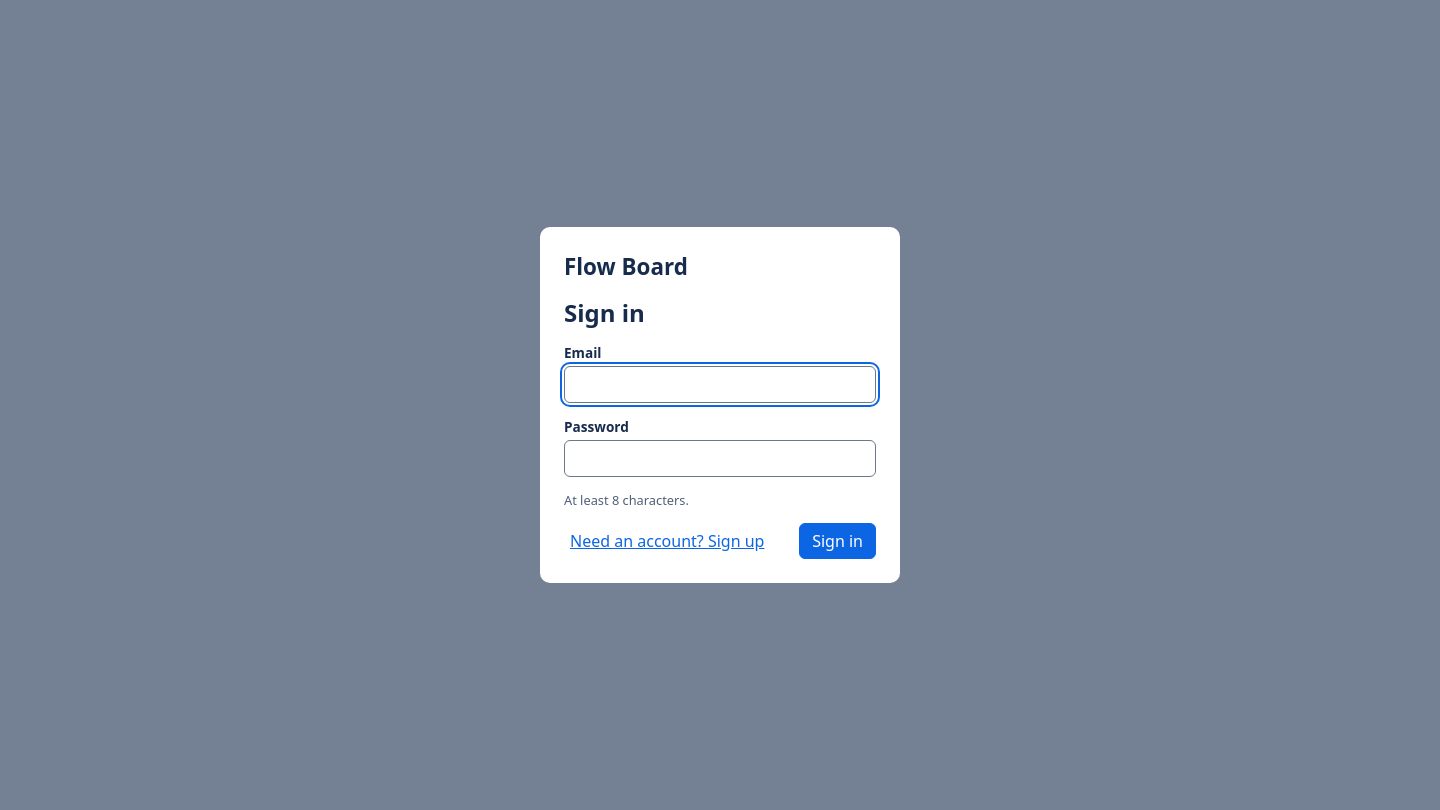
Test: AuthGate › REGRESSION: failed sign-up is generic too
Click the button "Need an account? Sign up" at (667, 541), box [564,528,770,554]
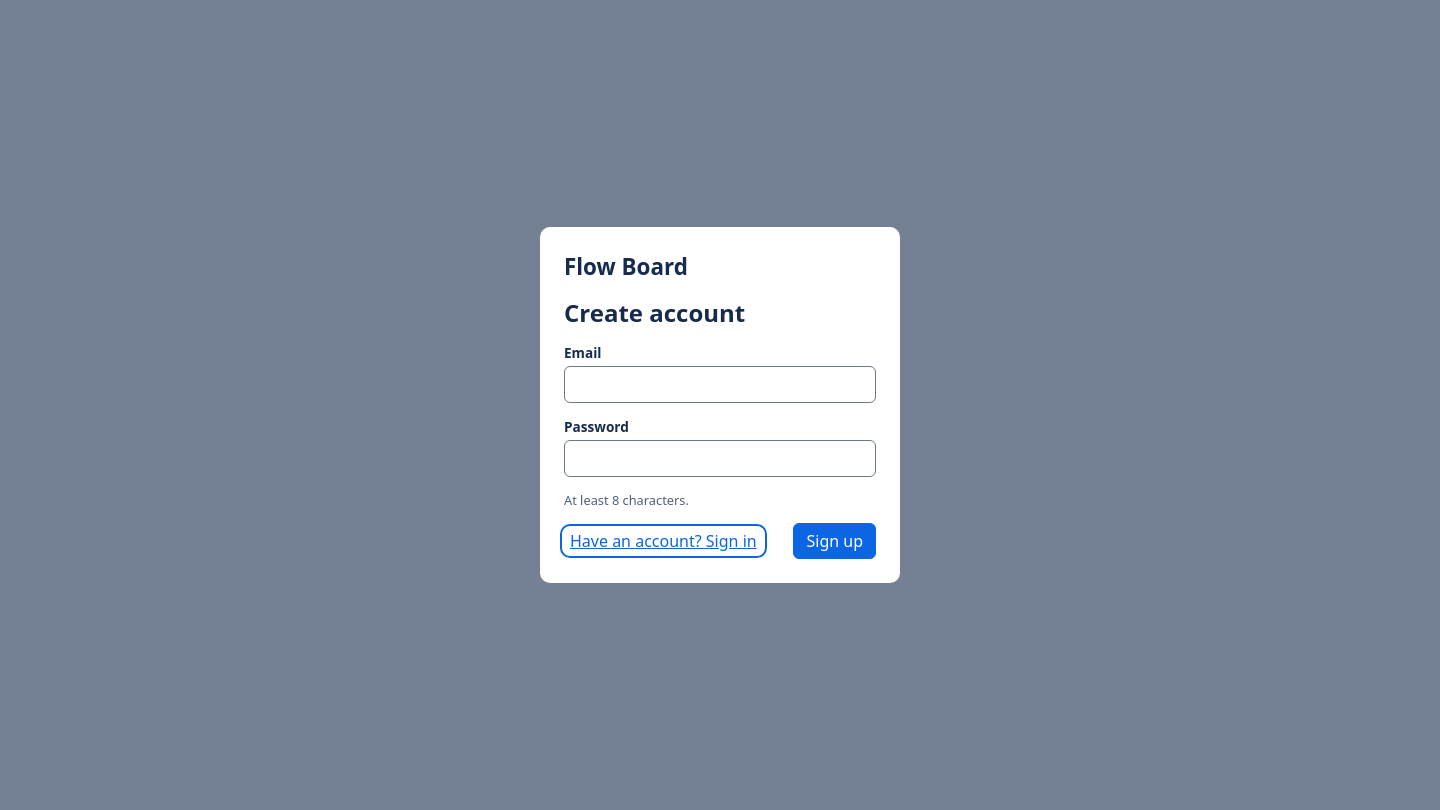
Type " a@b.co " into the field labelled "Email" at (720, 384), box [564,366,876,403]
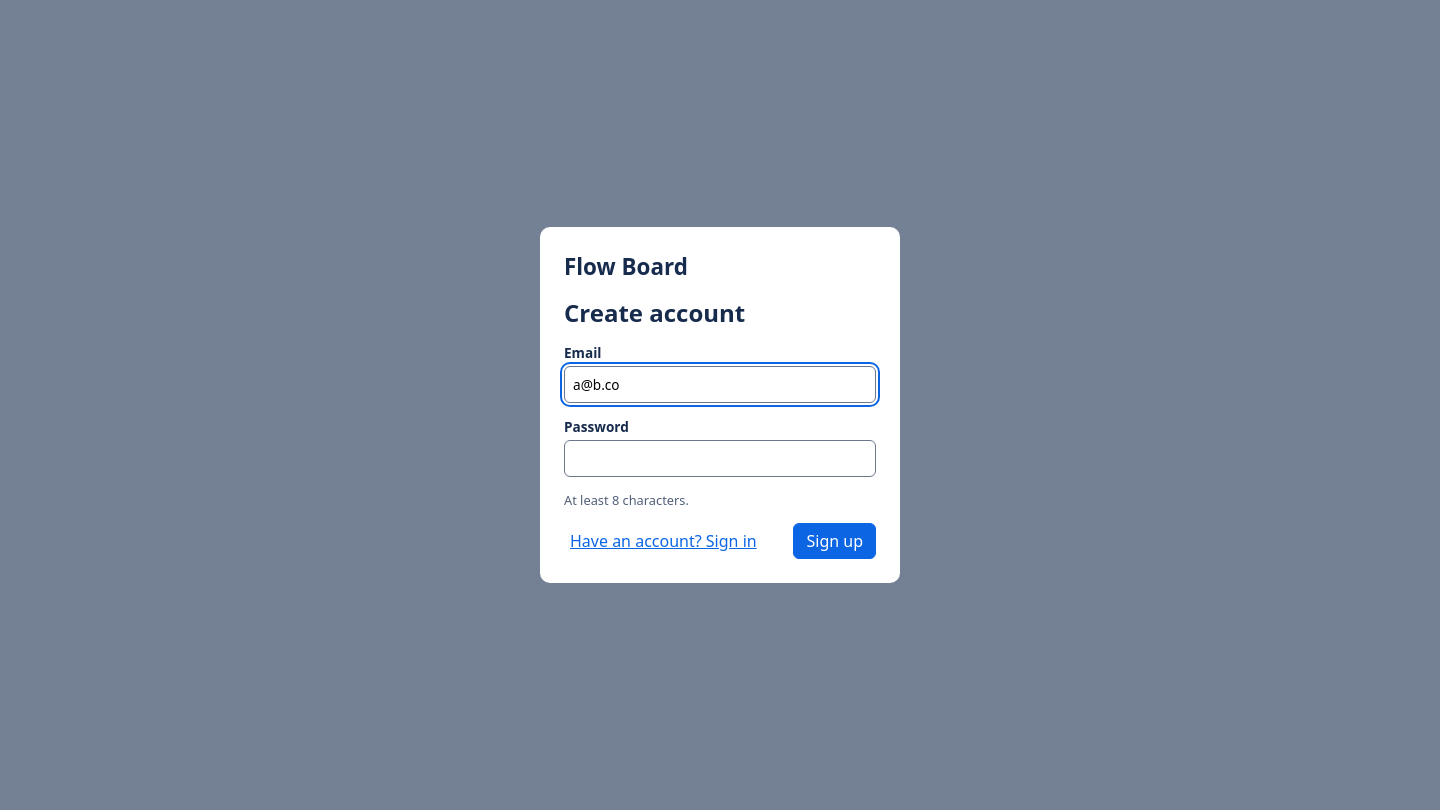
Type "password1" into the password field labelled "Password" at (720, 458), box [564,440,876,477]
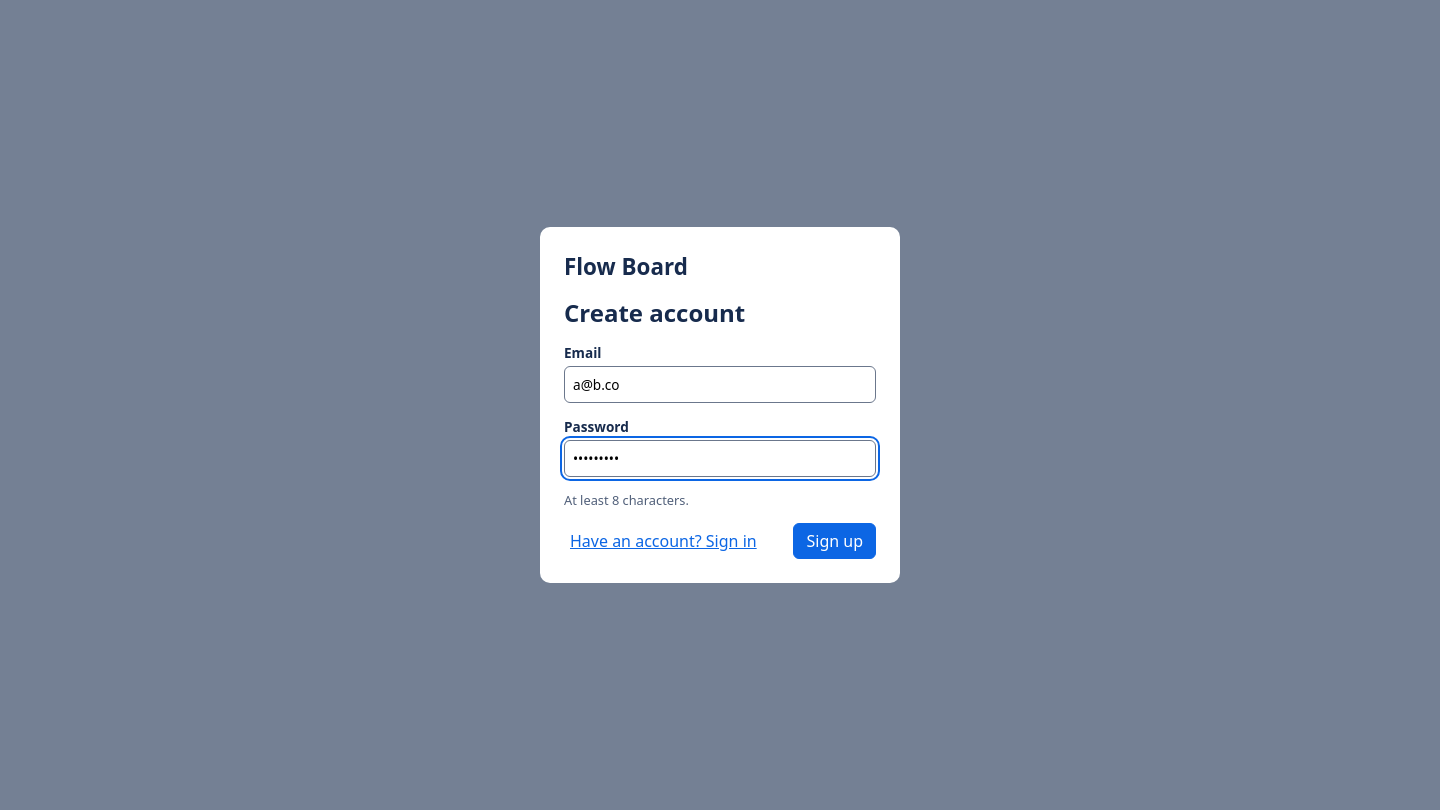
Click the button "Sign up" at (835, 541), box [794,523,876,559]
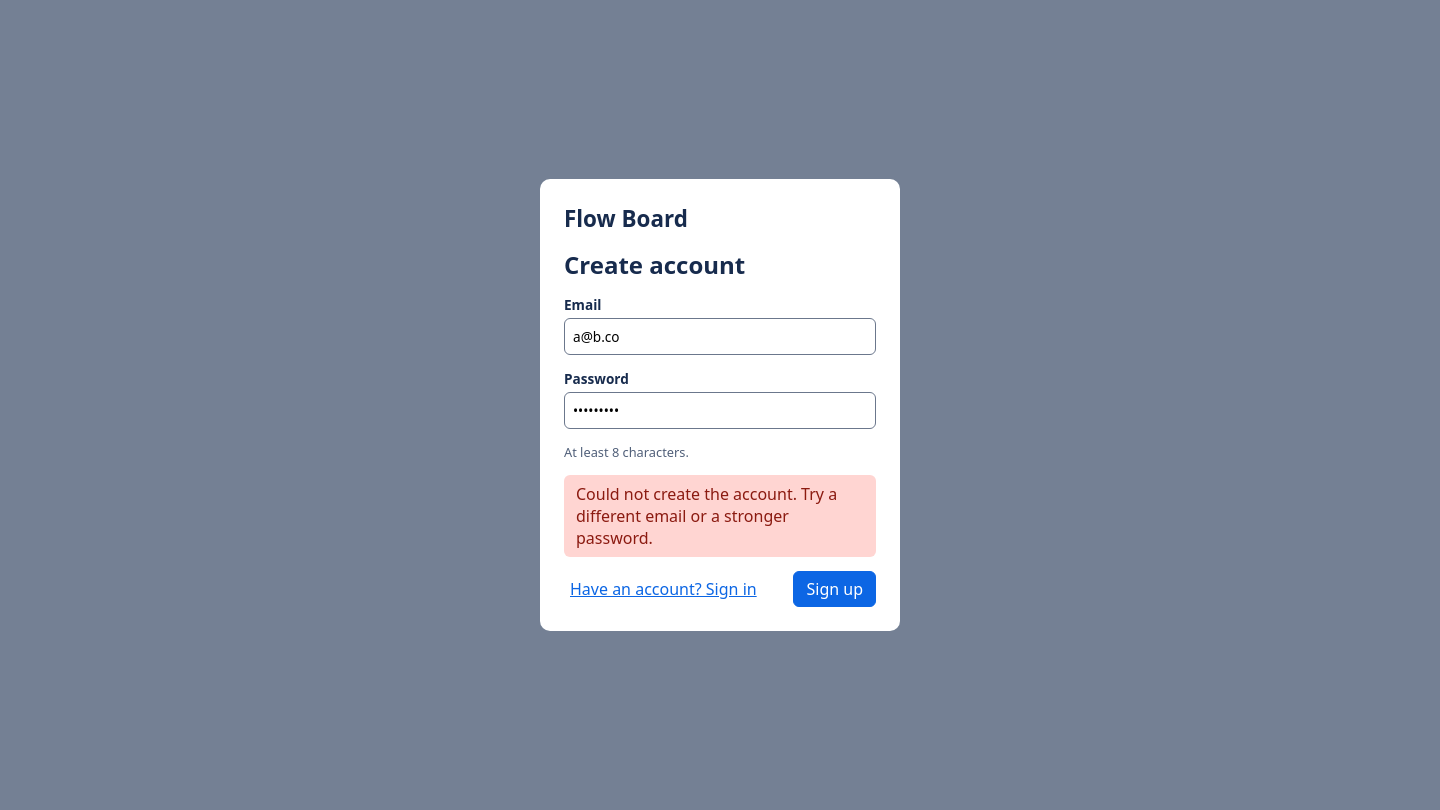
Result: the message shows "Could not create the account" at [576,483,837,549]
